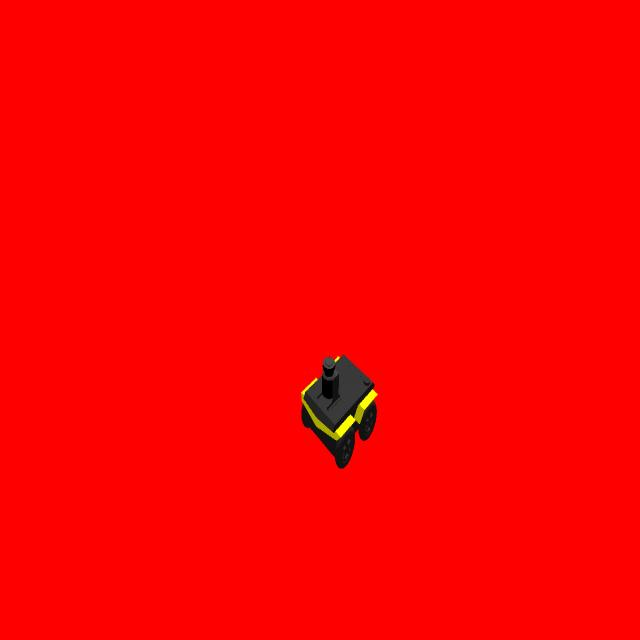jackal: (300, 338, 381, 477)
